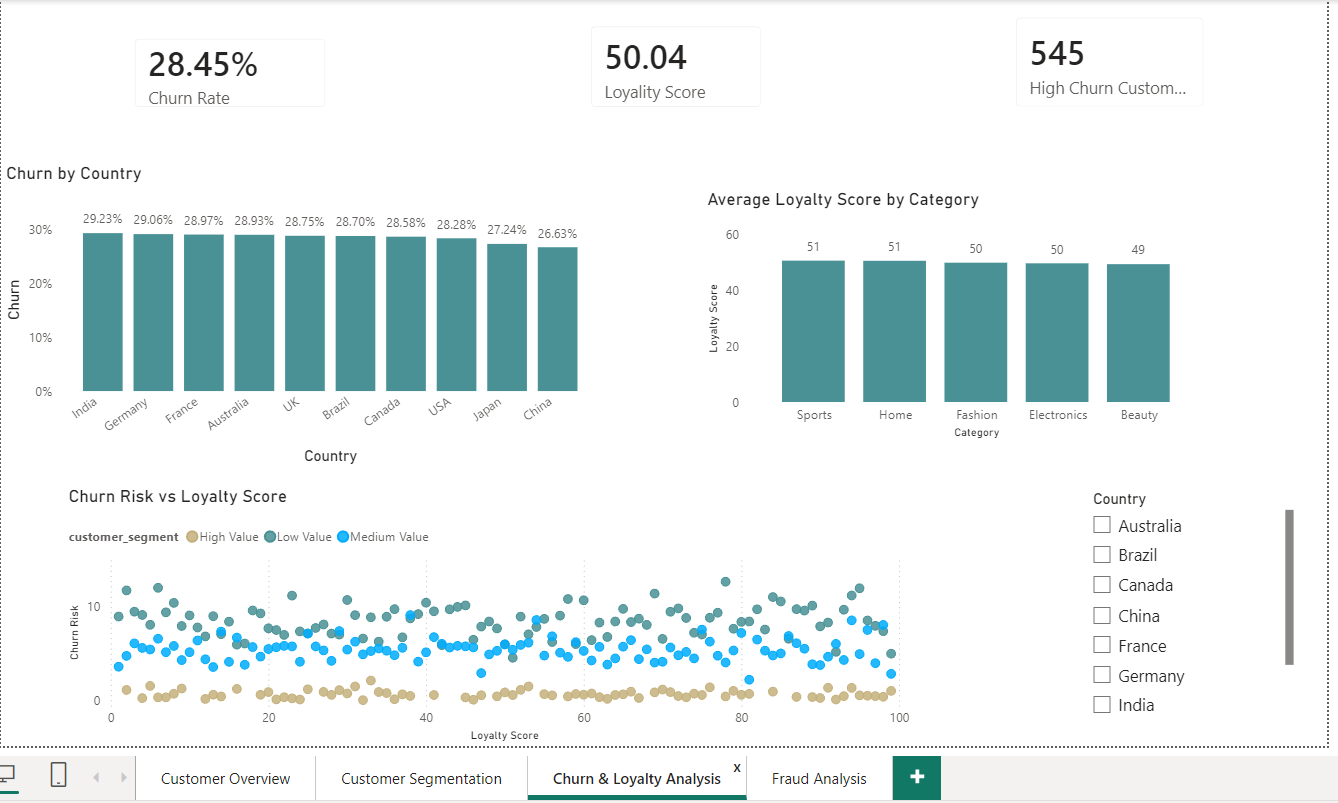

What the dashboard file says about the page in this screenshot:
{"tool":"powerbi","page":{"name":"Churn & Loyalty Analysis","canvas":[1280,720],"ordinal":2},"visuals":[{"type":"cardVisual","fields":{"Data":["vw_powerbi_customer.Churn Rate"]},"box":[112.5,20.6,218.2,100.2],"z":0},{"type":"clusteredColumnChart","fields":{"Category":["vw_powerbi_customer.country"],"Y":["vw_powerbi_customer.Churn Rate"]},"box":[0,156.4,581.8,296.4],"z":1000},{"type":"cardVisual","fields":{"Data":["vw_powerbi_customer.Average Loyalty Score"]},"box":[553,8.2,199,112.5],"z":2000},{"type":"cardVisual","fields":{"Data":["vw_powerbi_customer.High Churn Customers"]},"box":[963.3,0,215.4,120.8],"z":3000},{"type":"clusteredColumnChart","title":"Average Loyalty Score by Category","fields":{"Category":["vw_powerbi_customer.preferred_category"],"Y":["vw_powerbi_customer.Average Loyalty Score"]},"box":[676.5,182.5,489.9,245.6],"z":4000},{"type":"scatterChart","title":"Churn Risk vs Loyalty Score","fields":{"Y":["Sum(vw_powerbi_customer.churn_risk)"],"X":["vw_powerbi_customer.loyalty_score"],"Series":["vw_powerbi_customer.customer_segment"]},"box":[60.3,468.1,821.6,252.1],"z":5000},{"type":"slicer","fields":{"Values":["vw_powerbi_customer.country"]},"box":[1041.2,468.1,211.1,237.7],"z":6000}]}

Visuals, with their boxes on the page's 1280x720 design canvas (x1, y1, x2, y2). These are canvas units, not pixel positions in the 1338x803 screenshot, which may show the page scaled, cropped or inside an application window:
cardVisual - vw_powerbi_customer.Churn Rate: [112, 21, 331, 121]
clusteredColumnChart - vw_powerbi_customer.country x vw_powerbi_customer.Churn Rate: [0, 156, 582, 453]
cardVisual - vw_powerbi_customer.Average Loyalty Score: [553, 8, 752, 121]
cardVisual - vw_powerbi_customer.High Churn Customers: [963, 0, 1179, 121]
"Average Loyalty Score by Category" clusteredColumnChart: [676, 182, 1166, 428]
"Churn Risk vs Loyalty Score" scatterChart: [60, 468, 882, 720]
slicer - vw_powerbi_customer.country: [1041, 468, 1252, 706]
